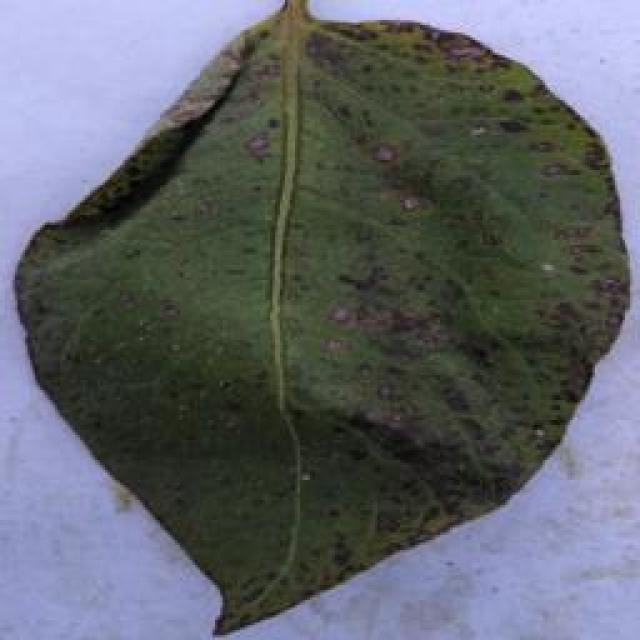Potato_Early_Blight: (4, 6, 635, 632)
